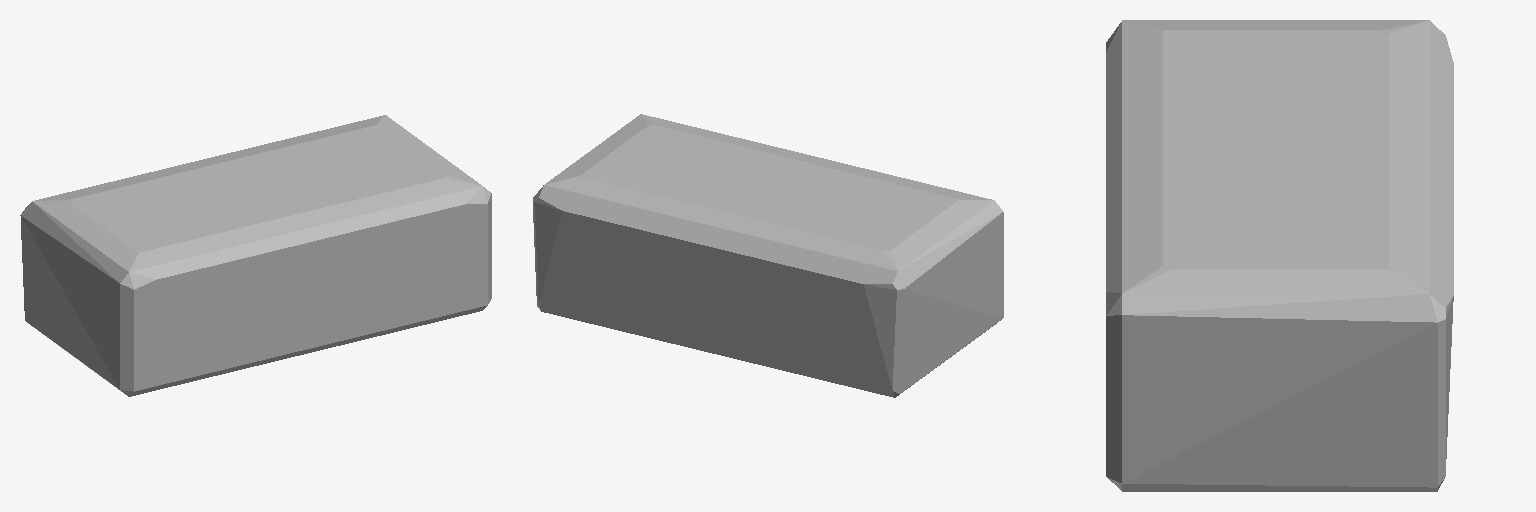
URDF robot description (root):
<robot name="root">
  <link name="link_rectangle_convex_piece_0">
    <inertial>
      <origin xyz="0 0 0" rpy="0 0 0" />
      <mass value="3.45E-05" />
      <inertia ixx="3.83E-09" ixy="-3.52E-13" ixz="1.58E-14" iyy="1.15E-08" iyz="-8.70E-12" izz="1.30E-08" />
    </inertial>
    <visual>
      <origin xyz="0 0 0" rpy="0 0 0" />
      <geometry>
        <mesh filename="rectangle_convex_piece_0.obj" scale="1.0000E+00 1.0000E+00 1.0000E+00" />
      </geometry>
      <material name="">
        <color rgba="7.50E-01 7.50E-01 7.50E-01 1" />
      </material>
    </visual>
    <collision>
      <origin xyz="0 0 0" rpy="0 0 0" />
      <geometry>
        <mesh filename="rectangle_convex_piece_0.obj" scale="1.0000E+00 1.0000E+00 1.0000E+00" />
      </geometry>
    </collision>
  </link>
</robot>

--- What the picture shows (computed from the rendered views, not written in the file) ---
The picture shows the robot from 3 angles, left to right: view 1: azimuth 30°, elevation 25°; view 2: azimuth 150°, elevation 25°; view 3: azimuth 270°, elevation 25°; orthographic projection.
Robot: root — 1 links, 0 joints (none); root link link_rectangle_convex_piece_0; default pose: all joints at 0.
Links seen in each view (by area): view 1: link_rectangle_convex_piece_0; view 2: link_rectangle_convex_piece_0; view 3: link_rectangle_convex_piece_0.
Boxes of the visible links, <box> form: link_rectangle_convex_piece_0: <box>20,115,491,396</box>; link_rectangle_convex_piece_0: <box>533,114,1003,397</box>; link_rectangle_convex_piece_0: <box>1106,20,1453,491</box>.
Bounding box of the posed robot: 0.0607 × 0.0311 × 0.021 m (x, y, z).
1 mesh visuals loaded from 1 distinct referenced files (1 OBJ).